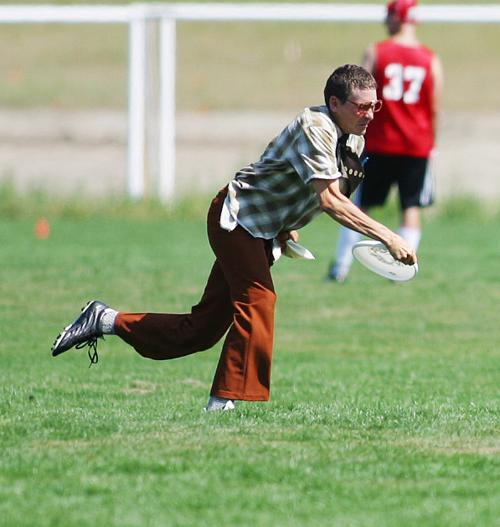person: (50, 64, 415, 415)
